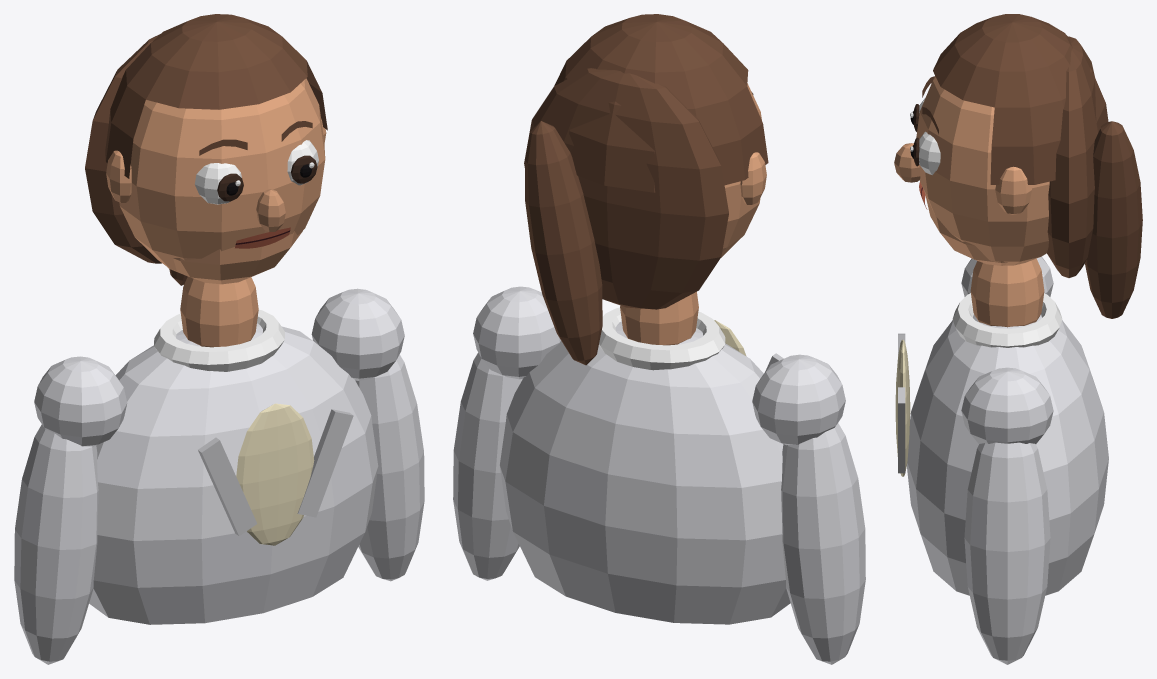
File: portrait_media.glb
3 views of the same model, side by side, from view 1: azimuth 30°, elevation 25°; view 2: azimuth 150°, elevation 25°; view 3: azimuth 270°, elevation 25° (orthographic). The views are drawn at different scales.
Parts seen in each view (by area): view 1: Torso_media, Skull_media, Arm-1_media, HairCap_media, Arm1_media, Inner_media, Shoulder-1_media, Shoulder1_media, Neck_media, HairBack_media, Collar_media, Jaw_media (+6 smaller); view 2: Torso_media, HairBack_media, HairCap_media, Arm-1_media, Ponytail_media, Arm1_media, Shoulder-1_media, Shoulder1_media, Collar_media, Neck_media, Skull_media, Ear-1_media; view 3: Torso_media, Arm1_media, HairCap_media, Skull_media, Ponytail_media, HairBack_media, Shoulder1_media, Neck_media, Collar_media, Ear1_media, Inner_media, Jaw_media (+4 smaller).
Part boxes in pixels (x1,y1,x2,y2): Torso_media: [89, 323, 378, 624]; Skull_media: [119, 78, 325, 270]; Arm-1_media: [14, 424, 98, 664]; HairCap_media: [105, 14, 327, 178]; Arm1_media: [355, 354, 424, 581]; Inner_media: [236, 403, 314, 545]; Shoulder-1_media: [34, 356, 127, 446]; Shoulder1_media: [311, 288, 404, 380]; Neck_media: [180, 276, 258, 347]; HairBack_media: [85, 34, 161, 263]; Collar_media: [154, 309, 284, 371]; Jaw_media: [167, 231, 302, 284]; Torso_media: [499, 321, 790, 624]; HairBack_media: [524, 68, 728, 309]; HairCap_media: [554, 14, 768, 192]; Arm-1_media: [781, 423, 865, 664]; Ponytail_media: [524, 121, 602, 365]; Arm1_media: [453, 353, 522, 580]; Shoulder-1_media: [752, 354, 845, 445]; Shoulder1_media: [473, 286, 561, 379]; Collar_media: [598, 307, 725, 370]; Neck_media: [620, 291, 698, 345]; Skull_media: [721, 83, 761, 257]; Ear-1_media: [740, 152, 766, 204]; Torso_media: [906, 314, 1108, 595]; Arm1_media: [964, 442, 1050, 664]; HairCap_media: [933, 14, 1108, 184]; Skull_media: [916, 76, 1049, 265]; Ponytail_media: [1085, 121, 1142, 318]; HairBack_media: [1047, 36, 1099, 277]; Shoulder1_media: [961, 367, 1053, 443]; Neck_media: [970, 258, 1044, 327]; Collar_media: [952, 293, 1062, 347]; Ear1_media: [995, 166, 1031, 214]; Inner_media: [895, 339, 910, 476]; Jaw_media: [925, 193, 1007, 265].
Size of what is drawn, in the model's own units: 0.7032 by 1.01 by 0.4043.
